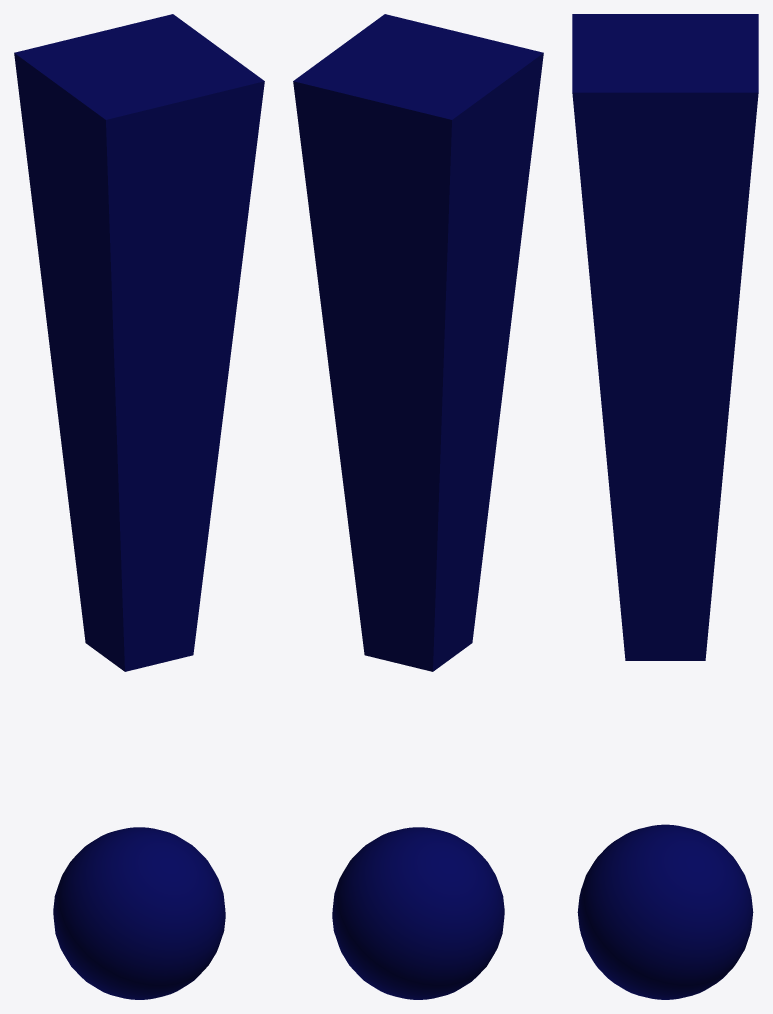
File: Interrogacion.fbx
3 renders of one model, left to right at view 1: azimuth 30°, elevation 25°; view 2: azimuth 150°, elevation 25°; view 3: azimuth 270°, elevation 25°, orthographic.
Visible parts, largest first — view 1: Excalamacion; view 2: Excalamacion; view 3: Excalamacion.
Part boxes in pixels (x1,y1,x2,y2): Excalamacion: [14, 14, 264, 999]; Excalamacion: [293, 14, 543, 999]; Excalamacion: [572, 14, 758, 999].
Size of the model in its own units: 42.1 by 234 by 42.1.
